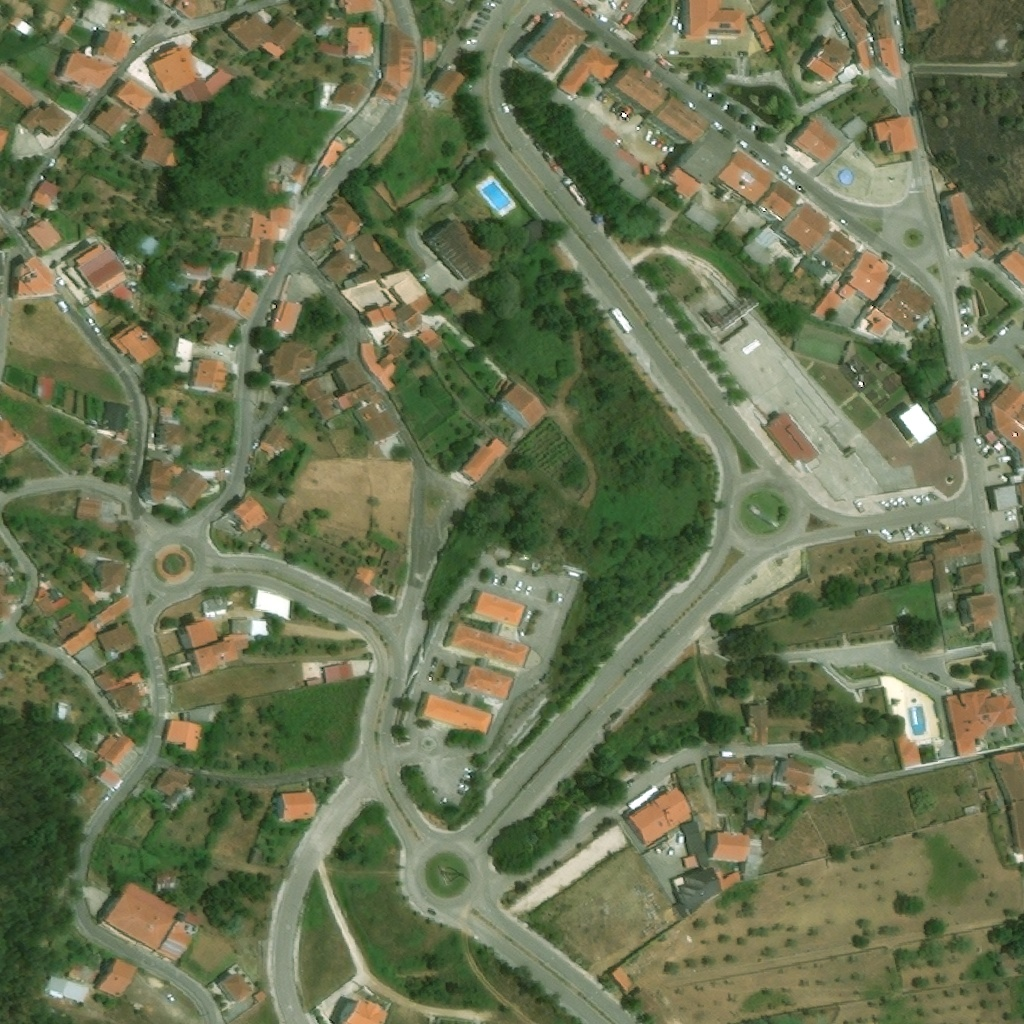0 no-damage: (98, 880, 200, 963), (338, 268, 435, 333), (943, 689, 1019, 757), (521, 14, 591, 76), (423, 219, 490, 283), (627, 785, 693, 848), (224, 10, 306, 59), (444, 622, 529, 668), (678, 124, 739, 185), (136, 107, 193, 171), (558, 43, 624, 98), (716, 147, 778, 205), (144, 456, 210, 510), (147, 44, 214, 97), (375, 24, 418, 103), (416, 692, 493, 736), (879, 277, 935, 332), (763, 412, 821, 465), (358, 335, 409, 395), (670, 866, 724, 922), (75, 244, 128, 299), (941, 183, 979, 259), (187, 633, 254, 676), (679, 0, 746, 42), (655, 95, 711, 145), (356, 405, 406, 460), (616, 65, 671, 114), (93, 668, 146, 718), (992, 381, 1023, 465), (445, 664, 514, 701), (783, 200, 832, 252), (498, 383, 548, 433), (793, 117, 843, 165), (813, 222, 861, 272), (848, 250, 893, 303), (10, 255, 62, 300), (109, 322, 161, 367), (208, 277, 261, 321), (459, 438, 509, 484), (178, 67, 235, 106), (299, 374, 344, 422), (59, 52, 117, 89), (470, 590, 528, 627), (267, 341, 315, 385), (352, 231, 396, 276), (868, 115, 918, 154), (87, 595, 136, 634), (759, 178, 803, 221), (197, 303, 238, 349), (20, 103, 73, 138), (898, 401, 940, 445), (318, 239, 357, 286), (833, 0, 871, 48), (742, 227, 785, 268), (713, 757, 777, 784), (722, 204, 767, 242), (685, 189, 723, 234), (991, 751, 1023, 804), (90, 102, 133, 141), (0, 66, 38, 110), (932, 531, 985, 562), (25, 212, 64, 254), (772, 759, 816, 796), (831, 284, 867, 329), (325, 197, 362, 240), (94, 960, 133, 999), (959, 593, 999, 631), (248, 207, 291, 242), (794, 255, 838, 289), (667, 164, 707, 201), (53, 14, 94, 50), (218, 234, 260, 269), (59, 622, 100, 657), (709, 831, 752, 864), (178, 619, 221, 651), (99, 623, 137, 659), (42, 975, 89, 1004), (115, 80, 155, 114), (94, 30, 134, 64), (336, 382, 382, 411), (234, 496, 270, 533), (817, 38, 856, 72), (164, 720, 204, 753), (428, 69, 466, 102), (268, 301, 303, 336), (97, 734, 136, 765), (933, 383, 964, 422), (278, 792, 318, 822), (251, 589, 291, 619), (15, 129, 55, 159), (217, 971, 253, 1004), (153, 767, 192, 797), (329, 81, 368, 111), (876, 36, 903, 79), (298, 223, 334, 255), (682, 829, 710, 870), (322, 659, 367, 684), (345, 998, 389, 1023), (812, 289, 846, 320), (348, 566, 377, 602), (807, 54, 841, 84), (0, 418, 26, 457), (316, 82, 347, 114), (336, 360, 367, 392), (194, 360, 228, 389), (977, 224, 1004, 260), (73, 644, 105, 674), (909, 0, 941, 30), (0, 563, 23, 604), (999, 244, 1023, 283), (97, 563, 126, 595), (62, 733, 91, 764), (83, 0, 116, 27), (856, 39, 880, 75), (866, 308, 894, 338), (107, 402, 129, 440), (155, 423, 193, 445), (348, 25, 374, 57), (260, 424, 287, 454), (75, 497, 106, 522), (743, 705, 768, 736), (1009, 801, 1023, 855), (33, 180, 61, 207), (174, 338, 195, 373), (991, 485, 1019, 511), (37, 597, 70, 619), (278, 180, 302, 210), (94, 437, 122, 462), (714, 868, 743, 892), (959, 564, 987, 588), (909, 560, 935, 585), (873, 6, 892, 38), (842, 117, 868, 140), (524, 220, 548, 244), (933, 561, 951, 593), (609, 967, 633, 991), (173, 0, 200, 21), (108, 282, 133, 304), (9, 16, 34, 38), (758, 0, 781, 23), (201, 597, 228, 616), (78, 582, 99, 606), (181, 262, 209, 280), (340, 0, 375, 14), (72, 546, 95, 567), (839, 64, 862, 85), (98, 767, 122, 787), (66, 968, 95, 984), (56, 614, 78, 635), (37, 375, 54, 402), (138, 235, 159, 256), (154, 874, 177, 892), (163, 790, 183, 810), (418, 326, 438, 346), (749, 14, 768, 35), (758, 30, 776, 52), (291, 163, 310, 183), (857, 0, 881, 15), (426, 335, 446, 353), (230, 619, 250, 635), (317, 21, 335, 38), (0, 128, 11, 153), (250, 621, 268, 636), (49, 588, 63, 601), (977, 417, 987, 435), (81, 443, 93, 456), (59, 704, 68, 721), (93, 593, 110, 601), (36, 588, 46, 600), (161, 0, 173, 6), (39, 581, 46, 590)
4 un-classified: (931, 433, 954, 466), (248, 849, 263, 867)
